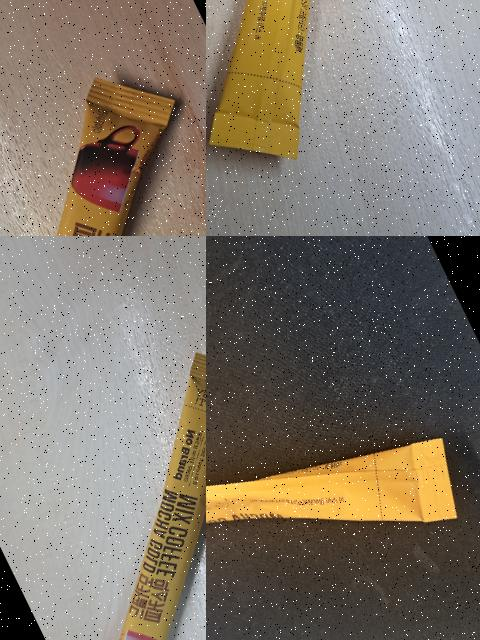mix_coffee: (206, 309, 480, 640), (0, 309, 206, 640), (206, 0, 480, 205), (0, 19, 206, 236)
